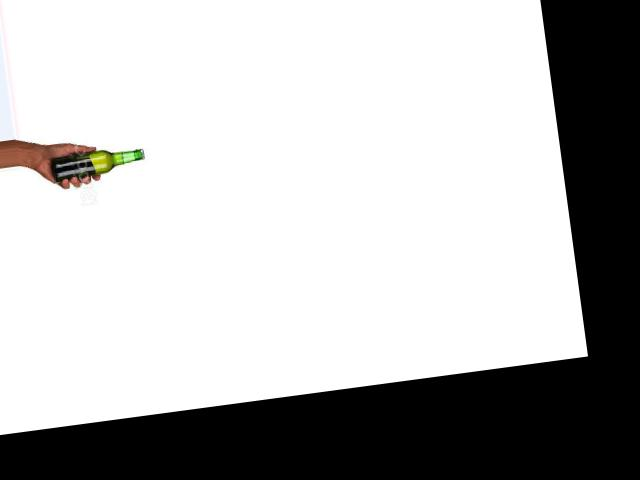beer: (51, 143, 146, 180)
